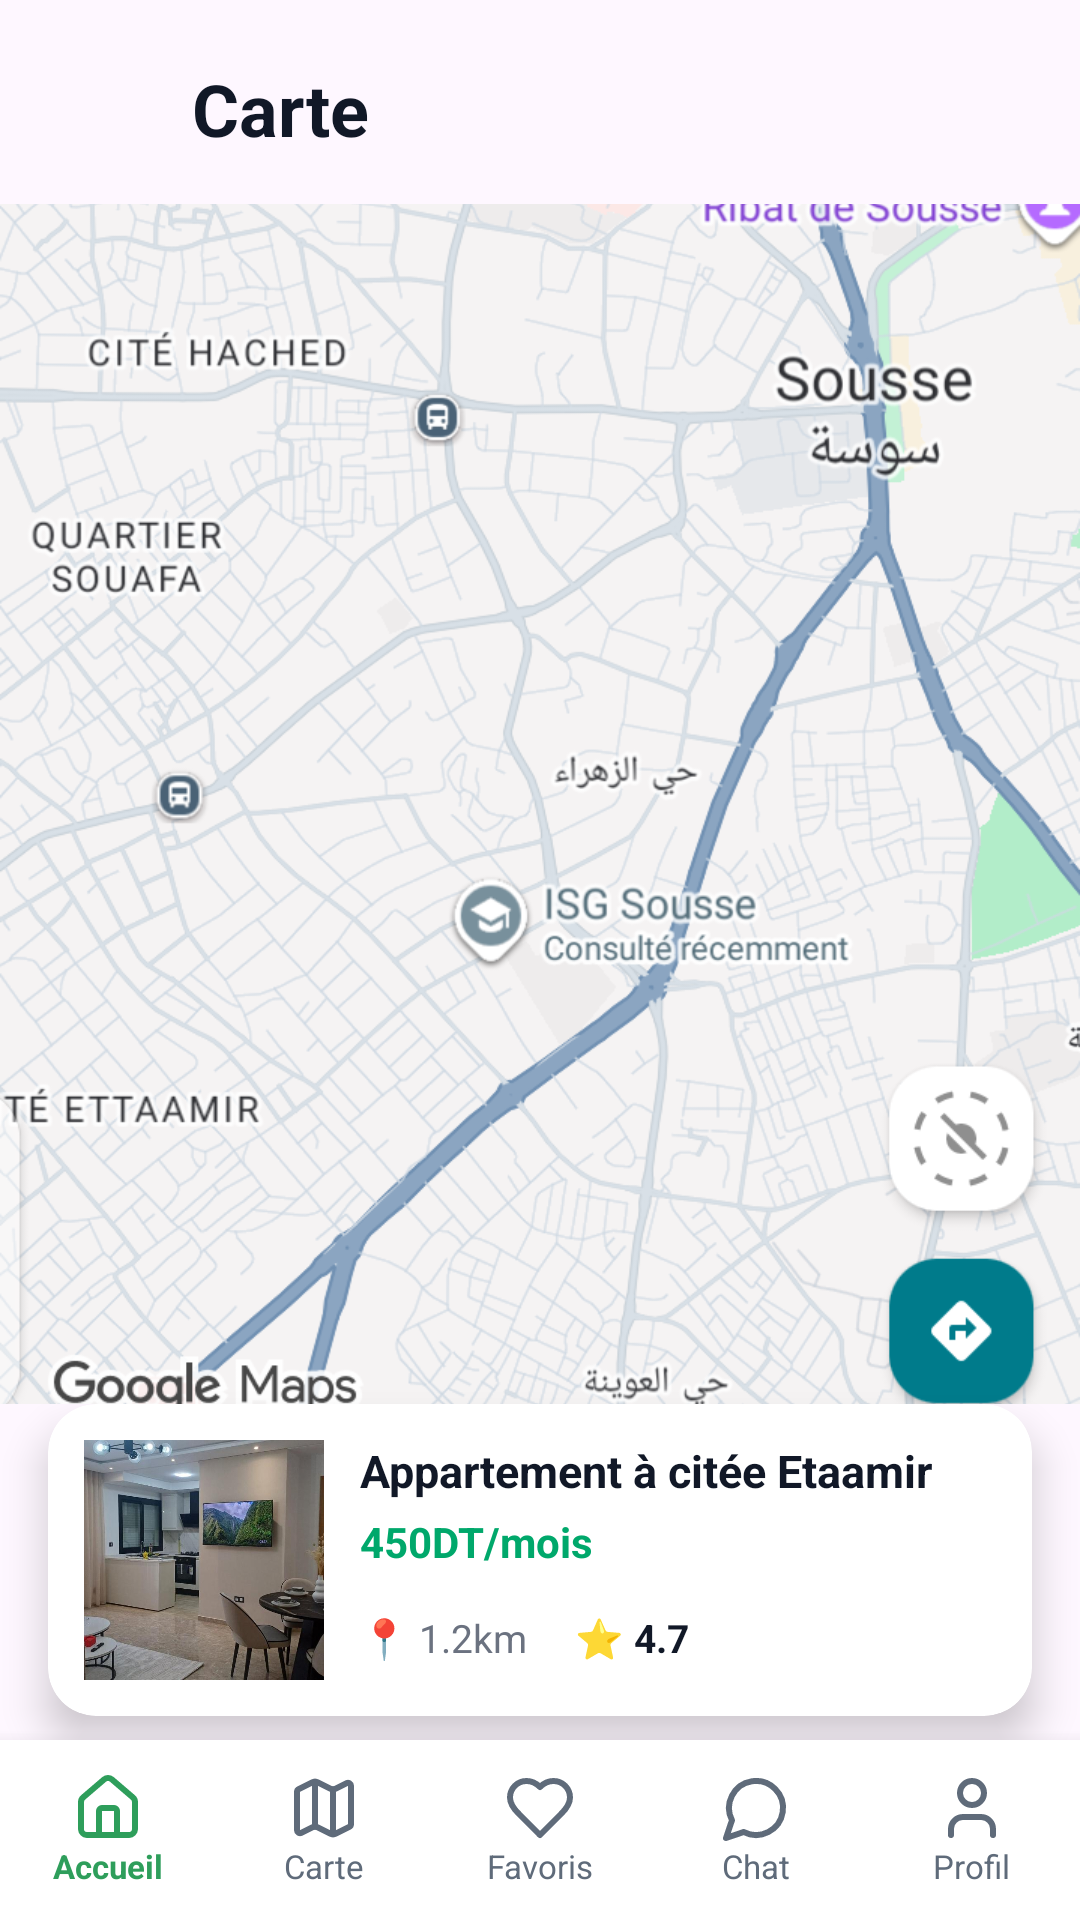

Screen size 1080x1920. Icon name, then its center in pixels as [x,y]:
heart: [540,1808]
